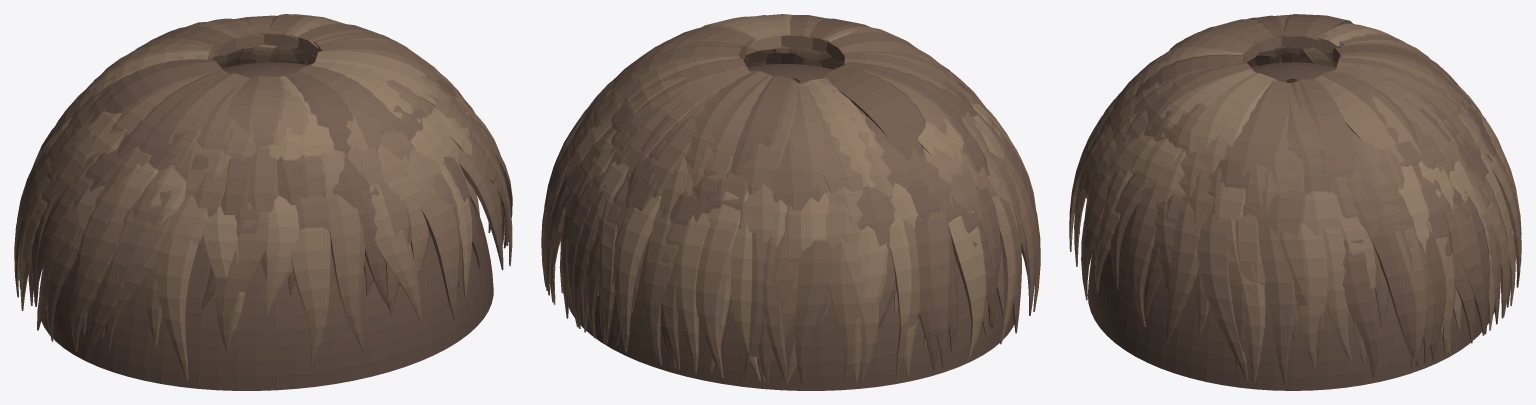
File: short-adventurer.glb
The picture shows the model from 3 angles, left to right: view 1: azimuth 30°, elevation 25°; view 2: azimuth 150°, elevation 25°; view 3: azimuth 270°, elevation 25°; orthographic projection. The views are drawn at different scales.
Visible parts, largest first — view 1: scalp_base, layered_lock_170, layered_lock_169, layered_lock_162, layered_lock_166, layered_lock_035, layered_lock_159, layered_lock_044, layered_lock_160, layered_lock_109, layered_lock_167, layered_lock_106 (+80 smaller); view 2: scalp_base, layered_lock_035, layered_lock_140, layered_lock_145, layered_lock_031, layered_lock_020, layered_lock_136, layered_lock_026, layered_lock_139, layered_lock_152, layered_lock_137, layered_lock_154 (+84 smaller); view 3: scalp_base, layered_lock_010, layered_lock_117, layered_lock_120, layered_lock_007, layered_lock_014, layered_lock_017, layered_lock_126, layered_lock_116, layered_lock_122, layered_lock_125, layered_lock_020 (+77 smaller).
Part boxes in pixels (x1,y1,x2,y2): scalp_base: (39,62,493,390); layered_lock_170: (327,192,364,350); layered_lock_169: (290,227,330,363); layered_lock_162: (156,235,198,381); layered_lock_166: (215,202,269,352); layered_lock_035: (103,58,223,113); layered_lock_159: (71,206,128,351); layered_lock_044: (227,75,285,152); layered_lock_160: (86,208,146,358); layered_lock_109: (420,188,460,320); layered_lock_167: (265,196,299,315); layered_lock_106: (369,183,421,319); scalp_base: (568,64,1014,390); layered_lock_035: (822,65,925,139); layered_lock_140: (695,224,734,377); layered_lock_145: (795,240,832,384); layered_lock_031: (800,78,877,188); layered_lock_020: (597,65,751,295); layered_lock_136: (614,195,661,352); layered_lock_026: (730,75,799,175); layered_lock_139: (676,213,709,372); layered_lock_152: (927,211,953,367); layered_lock_137: (644,209,678,364); layered_lock_154: (948,211,986,359); scalp_base: (1087,62,1494,390); layered_lock_010: (1224,80,1292,177); layered_lock_117: (1197,212,1248,382); layered_lock_120: (1257,217,1297,384); layered_lock_007: (1189,72,1277,153); layered_lock_014: (1292,79,1355,192); layered_lock_017: (1315,76,1421,163); layered_lock_126: (1370,220,1418,366); layered_lock_116: (1166,201,1201,344); layered_lock_122: (1298,222,1327,368); layered_lock_125: (1342,221,1377,377); layered_lock_020: (1334,66,1467,171).
Size of the model in its own units: 1.18 by 0.6226 by 1.07.
